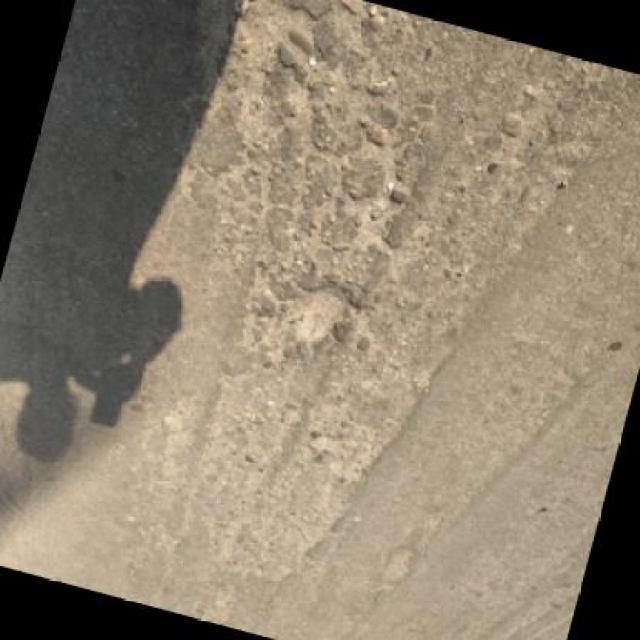pothole1: (264, 268, 364, 360)
